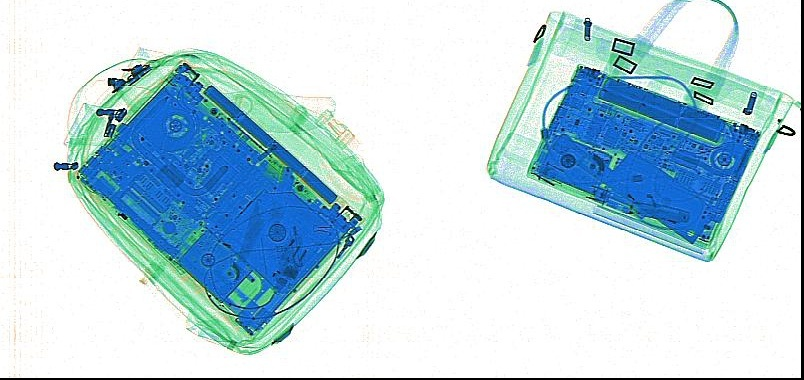knife: (552, 131, 717, 244), (628, 198, 690, 223), (270, 163, 293, 219)
